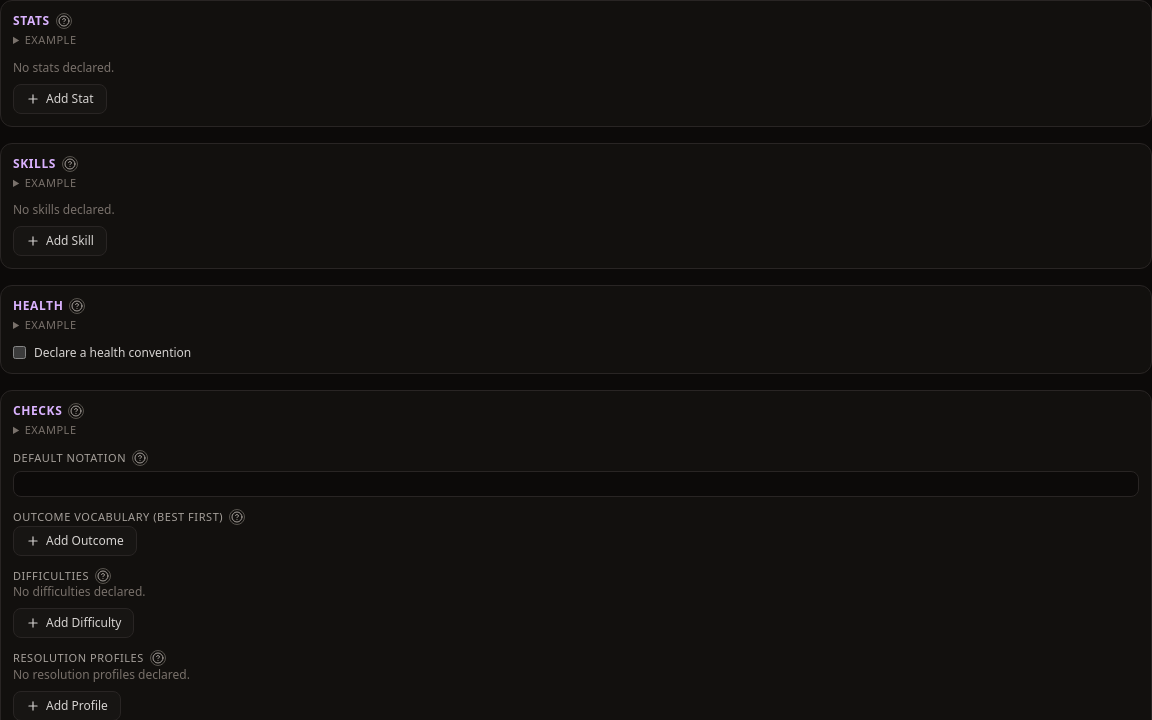
Scenario: MechanicsEditor › explains a section when its help is opened
Click the button named "help: checks": x=76, y=411 [68,403,84,419]
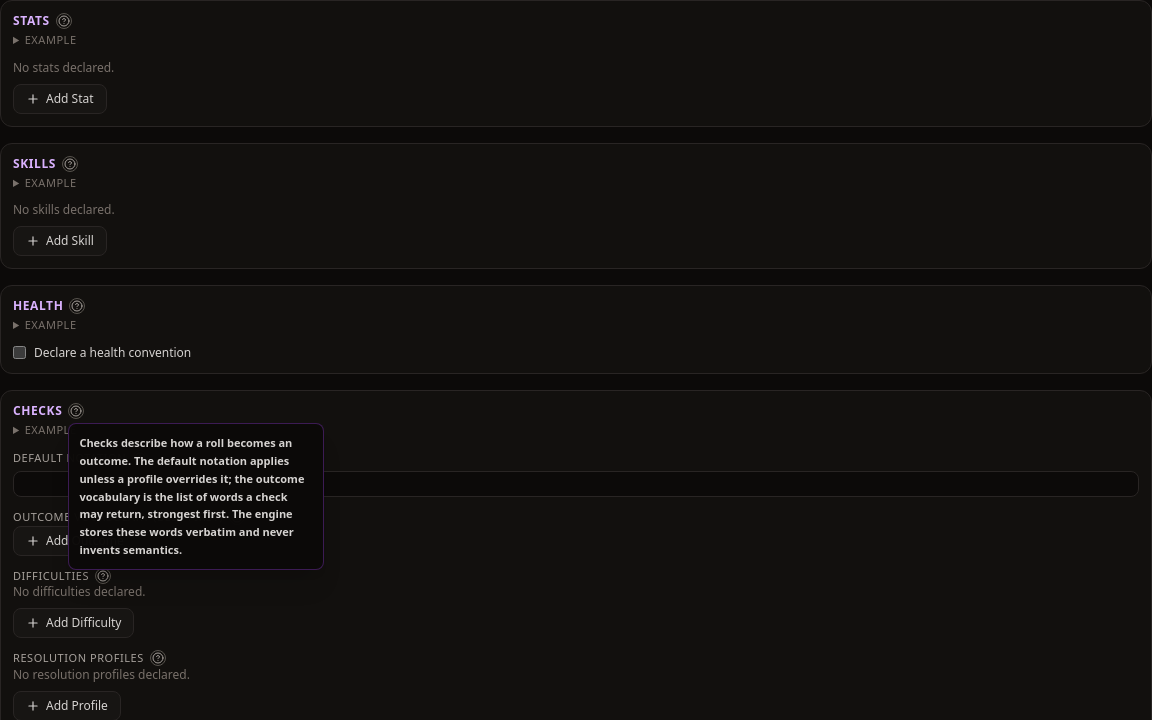
Now the tooltip shows "how a roll becomes an outcome", box [79,435,304,557]
